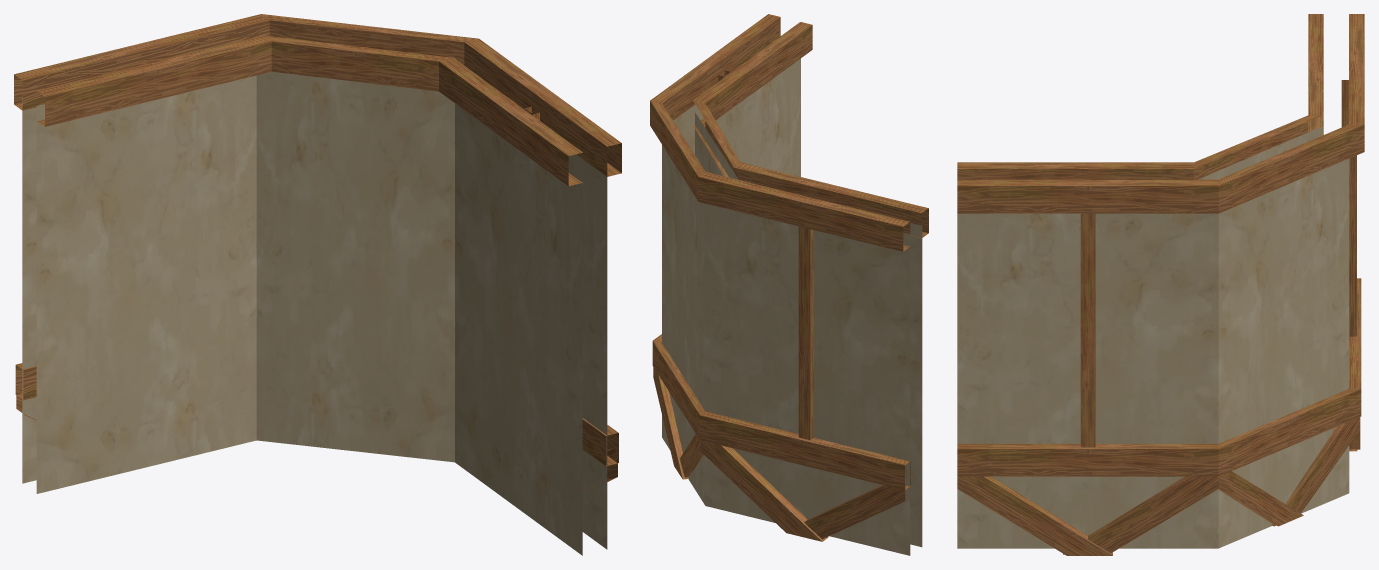
The model's file is overhang_plaster_corner_front.glb.
3 renders of one model, left to right at view 1: azimuth 30°, elevation 25°; view 2: azimuth 150°, elevation 25°; view 3: azimuth 270°, elevation 25°, orthographic. The views are drawn at different scales.
Size of the model in its own units: 3.12 by 3.14 by 3.12.
2 materials, 2 textured.
